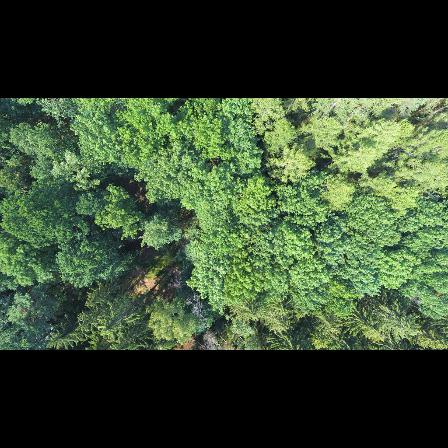Dead: (185, 294, 208, 323)
